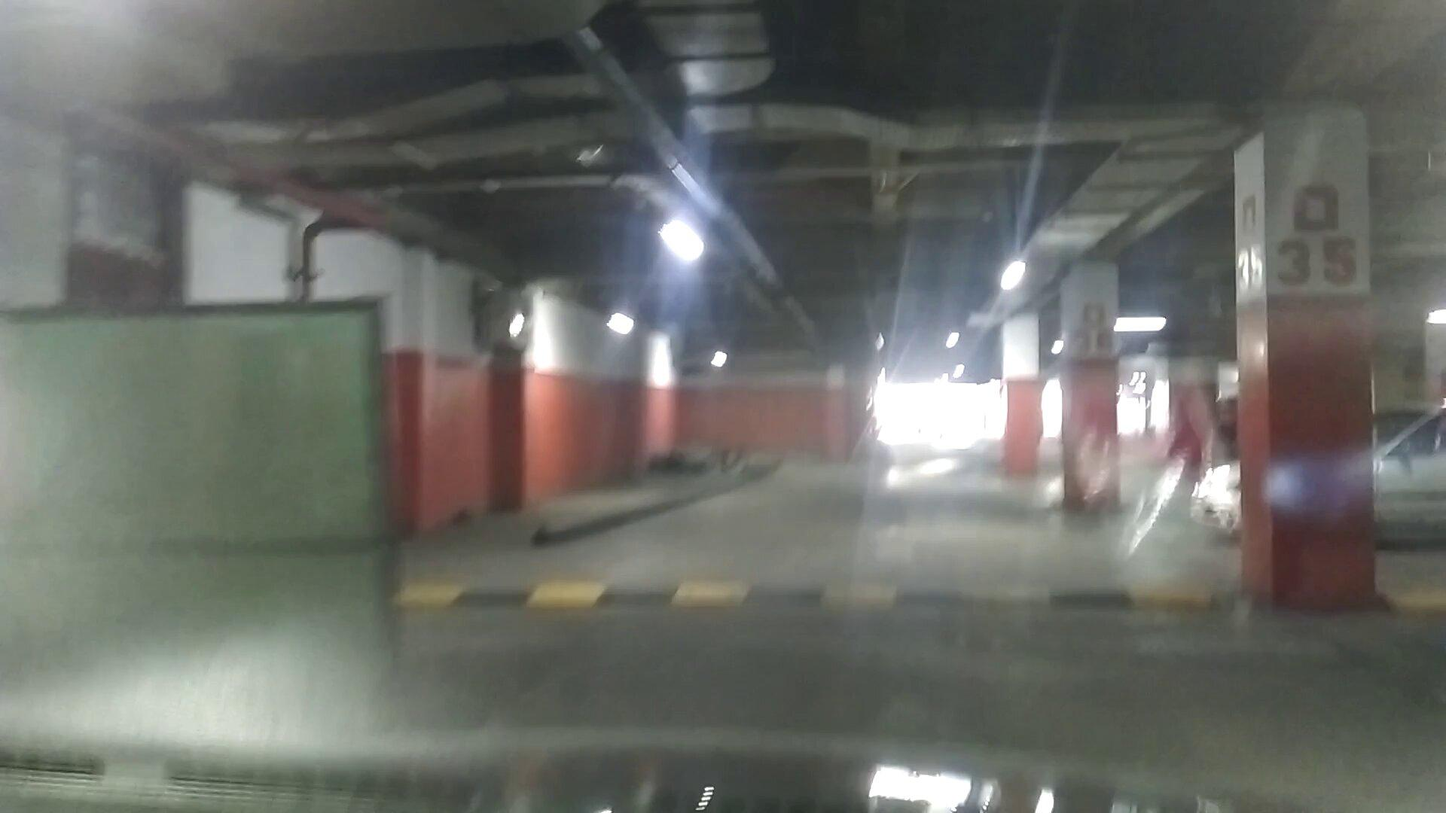Bump: (401, 565, 1252, 623)
